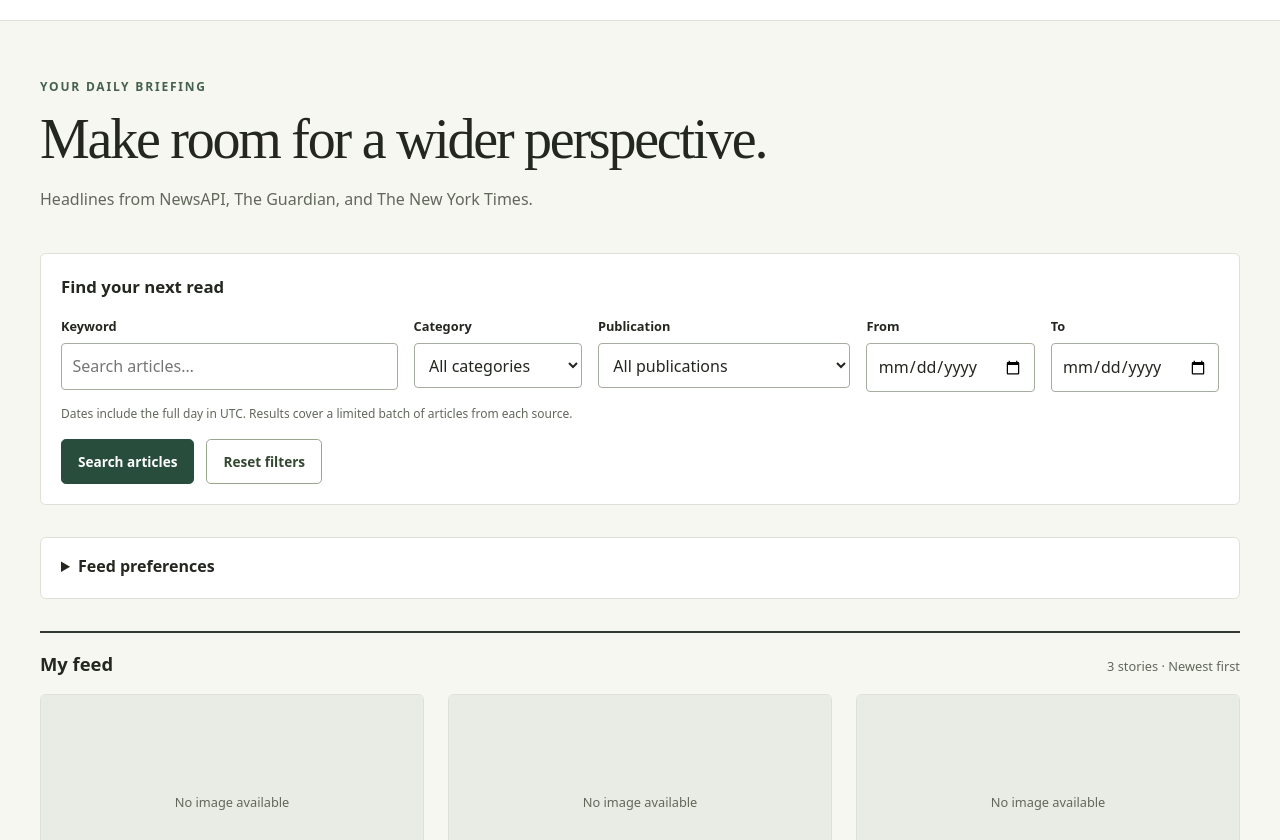
applies preferences for the session when storage writes fail
Click the heading "Feed preferences": (146, 566) [78,555,215,577]
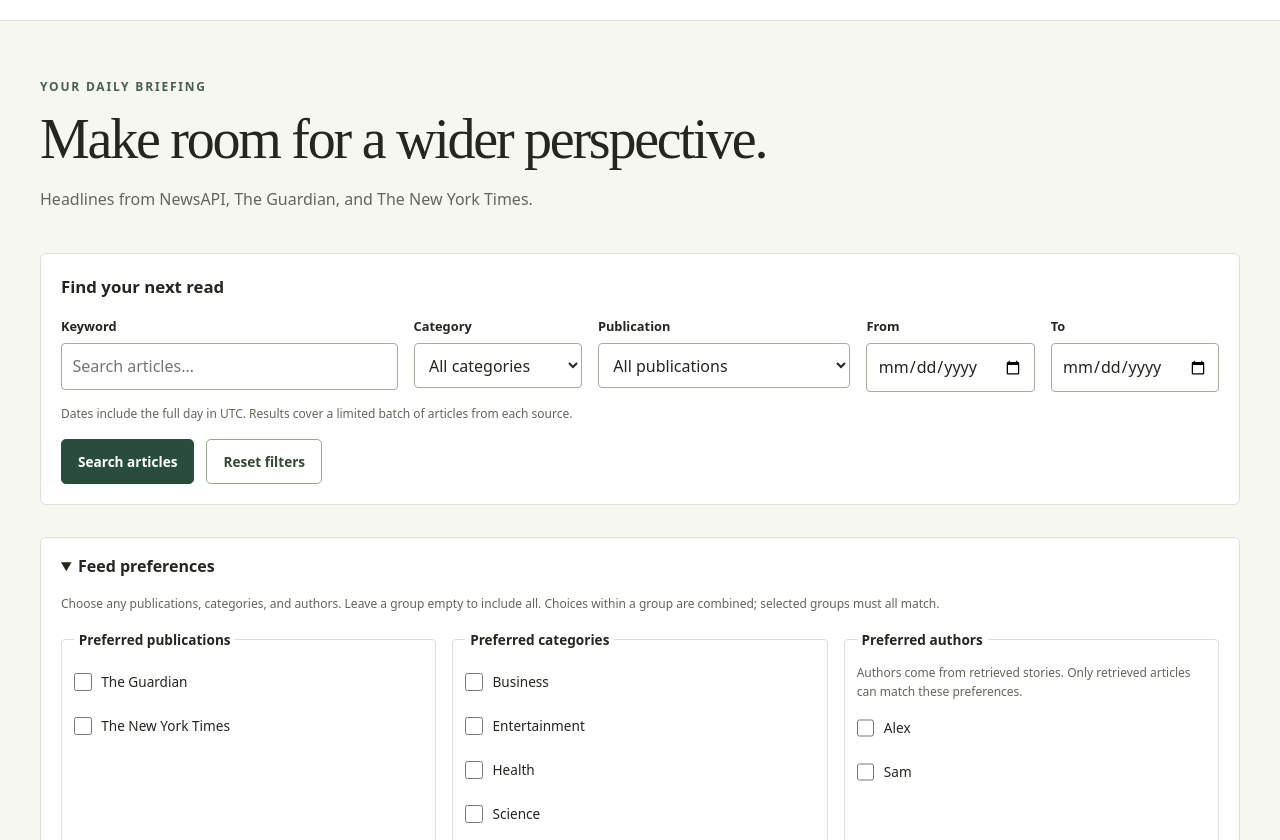
Click the checkbox labelled "Alex": (866, 728) [857,719,874,737]
(page scrolled)
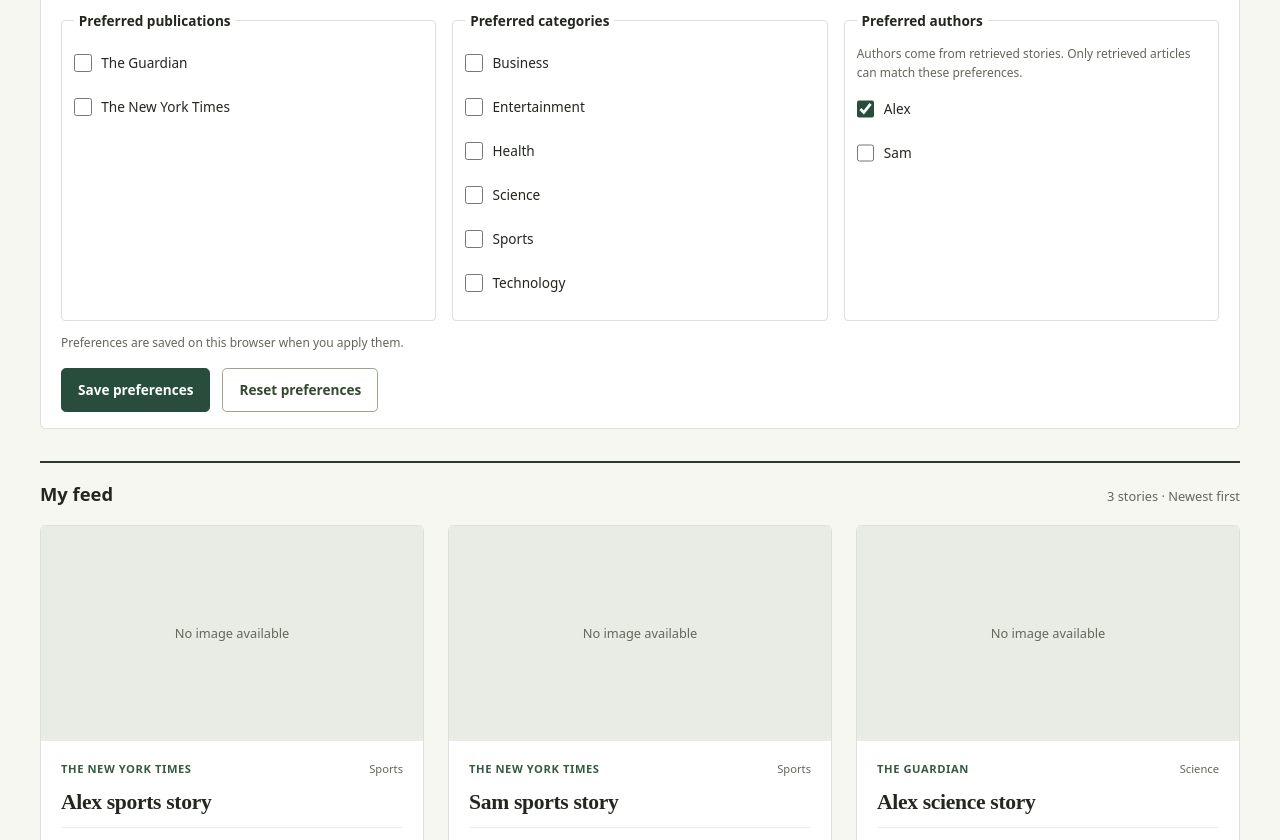
Click the button "Save preferences": (136, 390) [61,368,210,412]
(page scrolled)
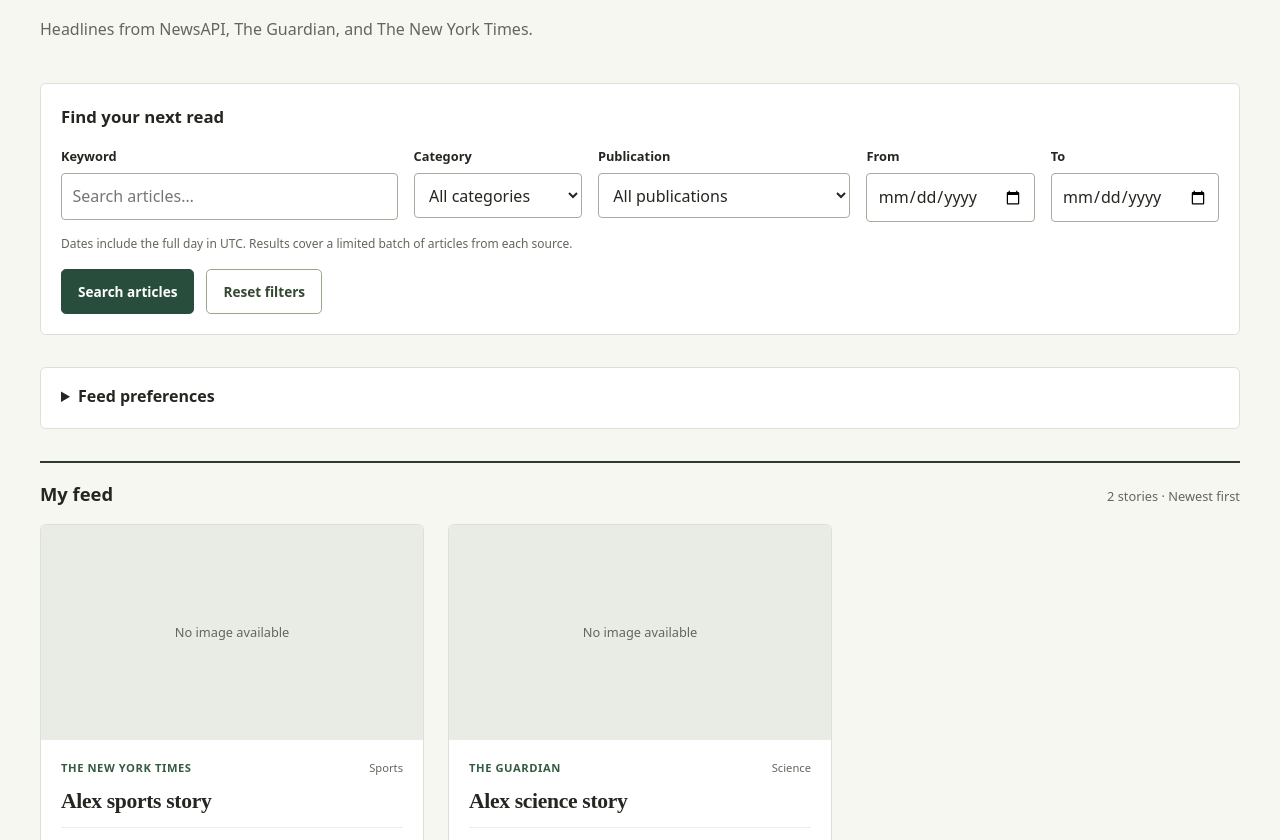
Click the heading "Feed preferences": (146, 396) [78,385,215,407]
(page scrolled)
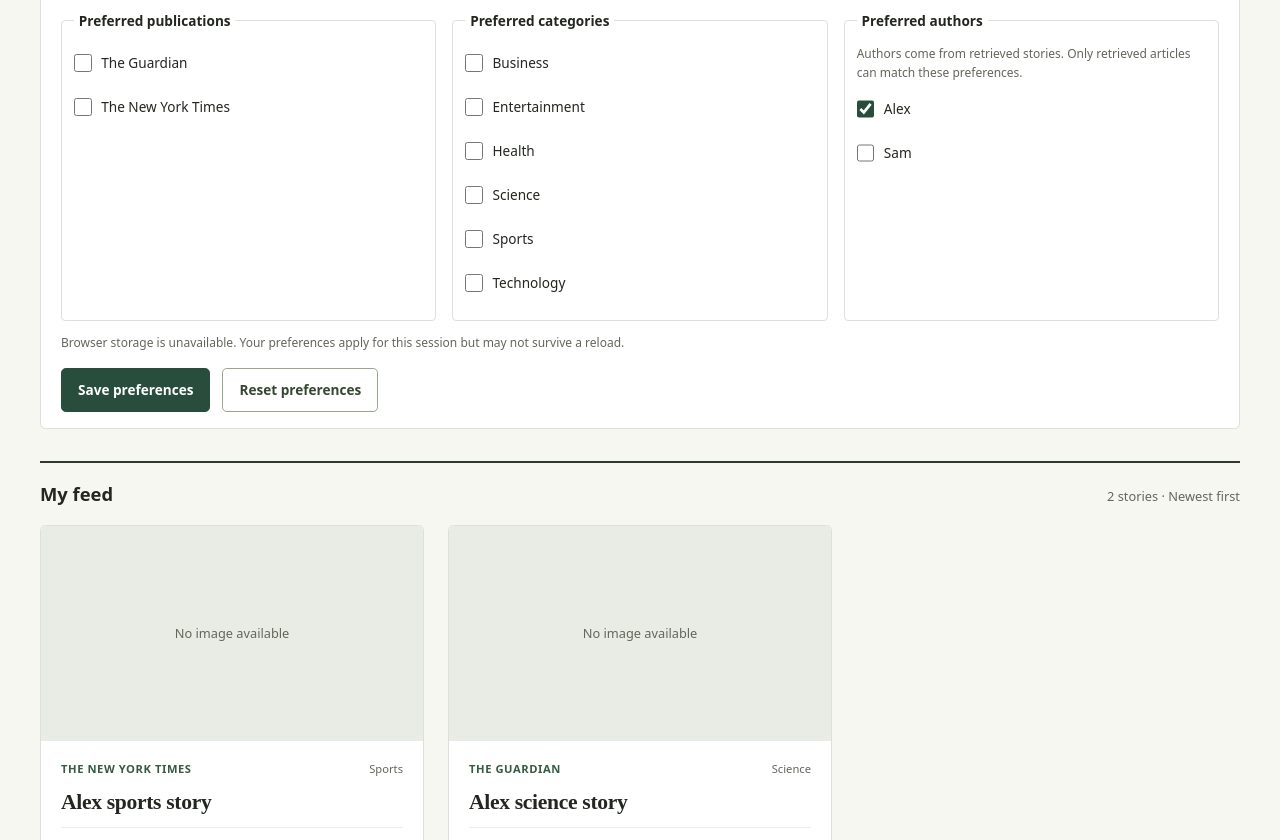
Expected: the text "Browser storage is unavailable" is shown, [61,334,624,351]
